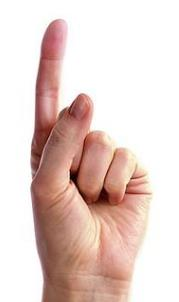up: (25, 13, 154, 282)
